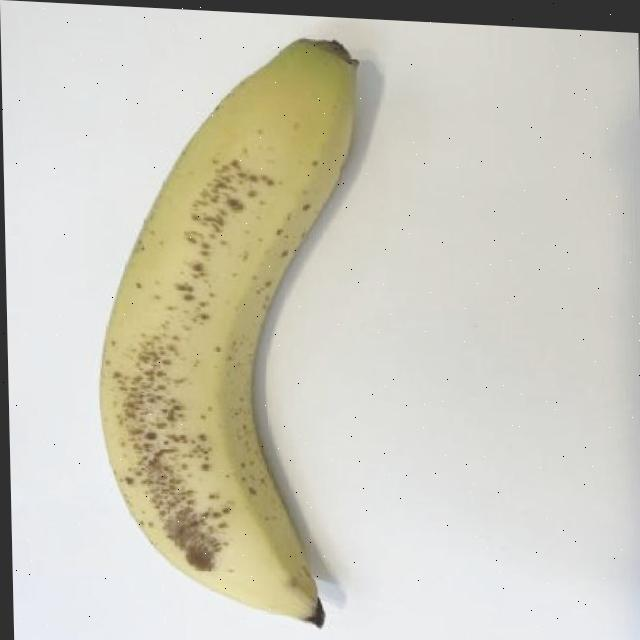banana: (87, 23, 375, 633)
